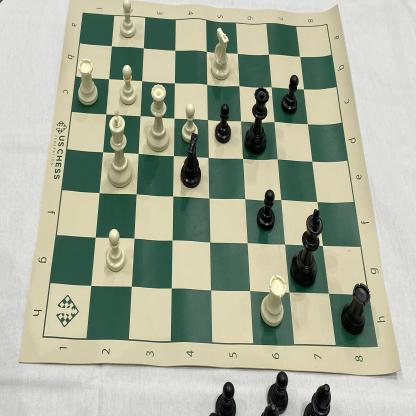black-king: (289, 202, 325, 294)
black-knight: (180, 133, 204, 192)
black-pawn: (252, 187, 278, 231), (279, 71, 302, 115), (213, 101, 234, 147)
black-queen: (244, 80, 269, 159)
black-rook: (338, 276, 371, 336)
white-king: (105, 107, 135, 194)
white-knight: (208, 22, 234, 84)
white-pawn: (103, 225, 129, 274), (113, 0, 139, 42), (116, 61, 139, 107), (180, 100, 199, 145)
white-queen: (145, 79, 172, 157)
white-rook: (258, 272, 288, 328), (73, 55, 100, 108)
